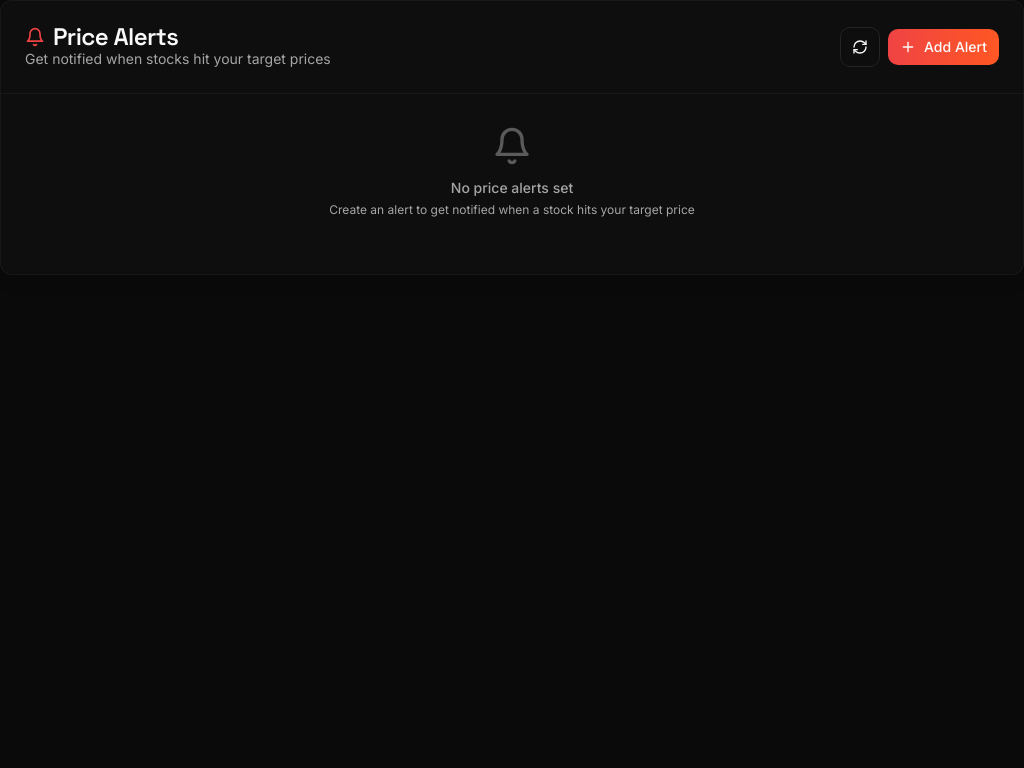
Scenario: Price alerts smoke flow › creates a new alert via the dialog form
The image size is (1024, 768).
Later steps or results of the test are not shown.
Expected: the text "No price alerts set" is shown, [451, 179, 573, 196]
Click the button "Add Alert": (944, 47) [888, 29, 999, 65]
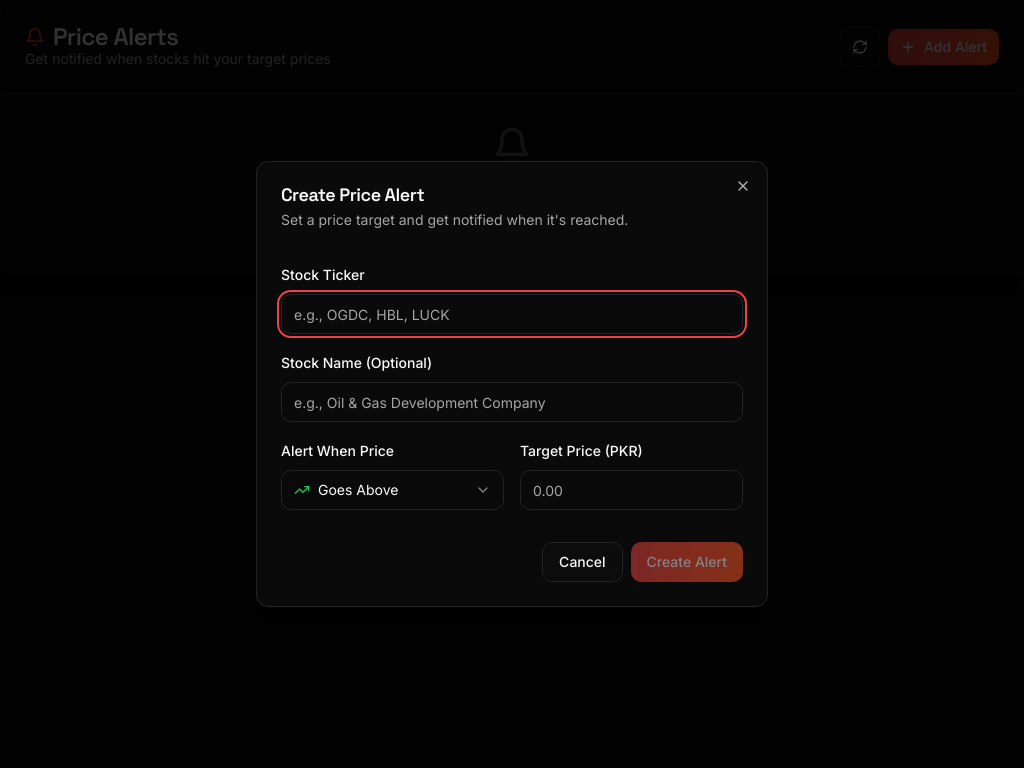
Result: the heading "Create Price Alert" is shown at [281, 183, 424, 206]
